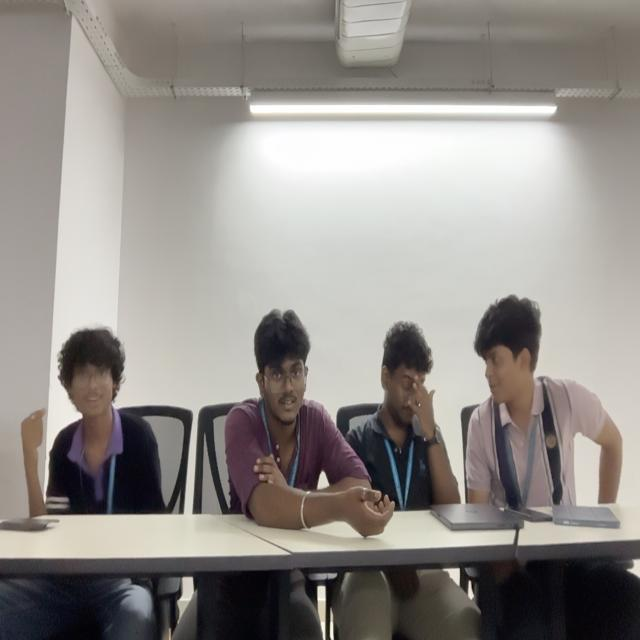Isolated: (21, 326, 162, 514)
socializing: (229, 296, 622, 539)
